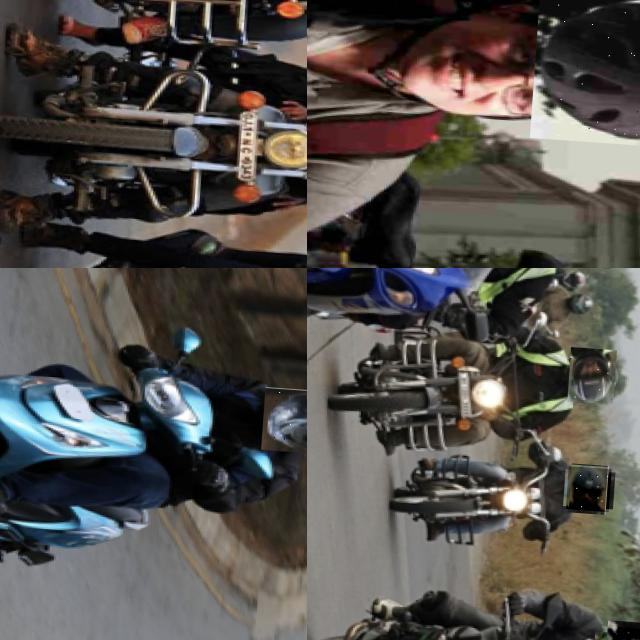helmet: (528, 0, 640, 147), (259, 386, 307, 457), (564, 348, 618, 402), (564, 466, 610, 512), (562, 291, 593, 315), (558, 268, 586, 290)
